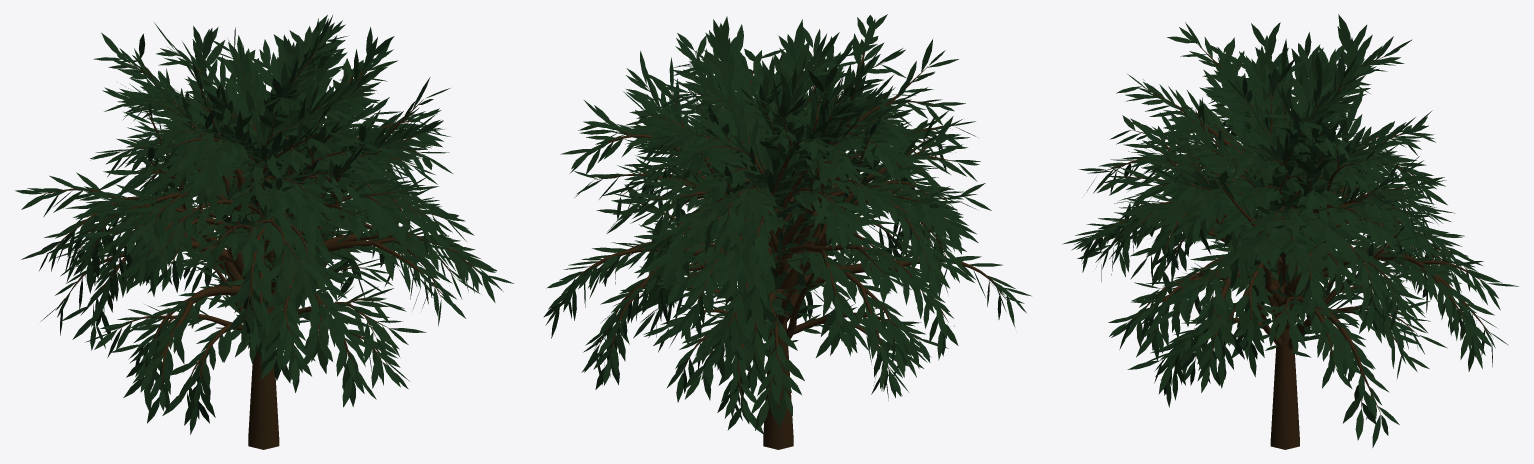
File: tree_2.glb
3 renders of one model, left to right at view 1: azimuth 30°, elevation 25°; view 2: azimuth 150°, elevation 25°; view 3: azimuth 270°, elevation 25°, orthographic. The views are drawn at different scales.
Parts seen in each view (by area): view 1: tree; view 2: tree; view 3: tree.
Part boxes in pixels (x1,y1,x2,y2): tree: [15, 14, 514, 449]; tree: [543, 14, 1031, 449]; tree: [1062, 14, 1518, 449].
Size of the model in its own units: 489 by 486 by 517.
